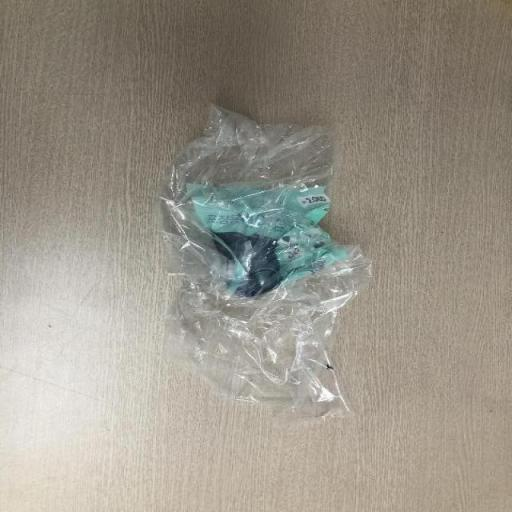plastic-bag: (152, 98, 366, 424)
